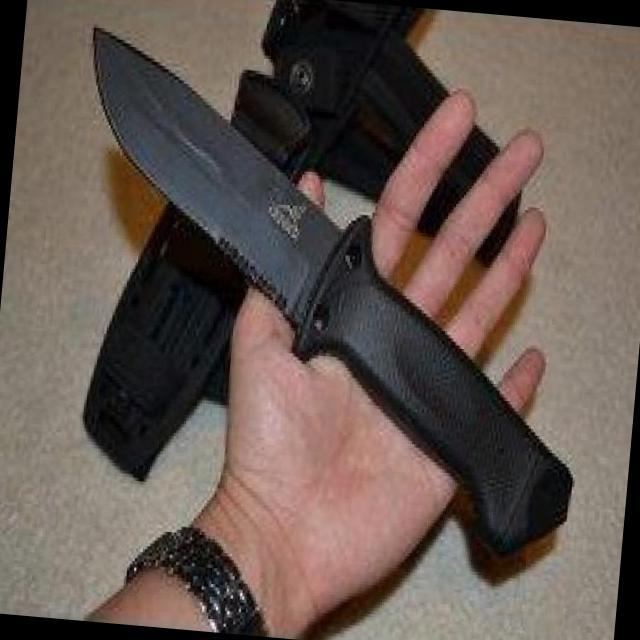Knife: (55, 7, 395, 372)
